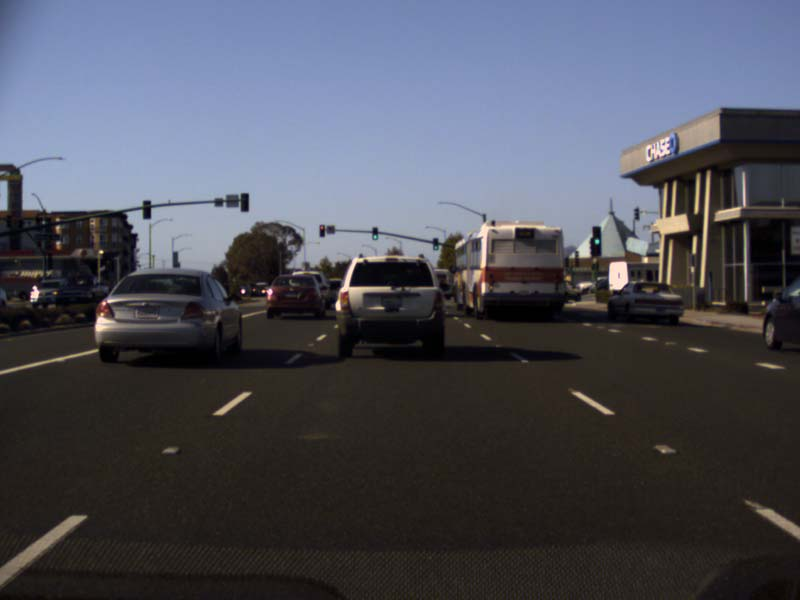Green: (592, 226, 600, 255), (372, 226, 377, 240), (432, 237, 437, 249)
Red: (319, 224, 324, 237)
